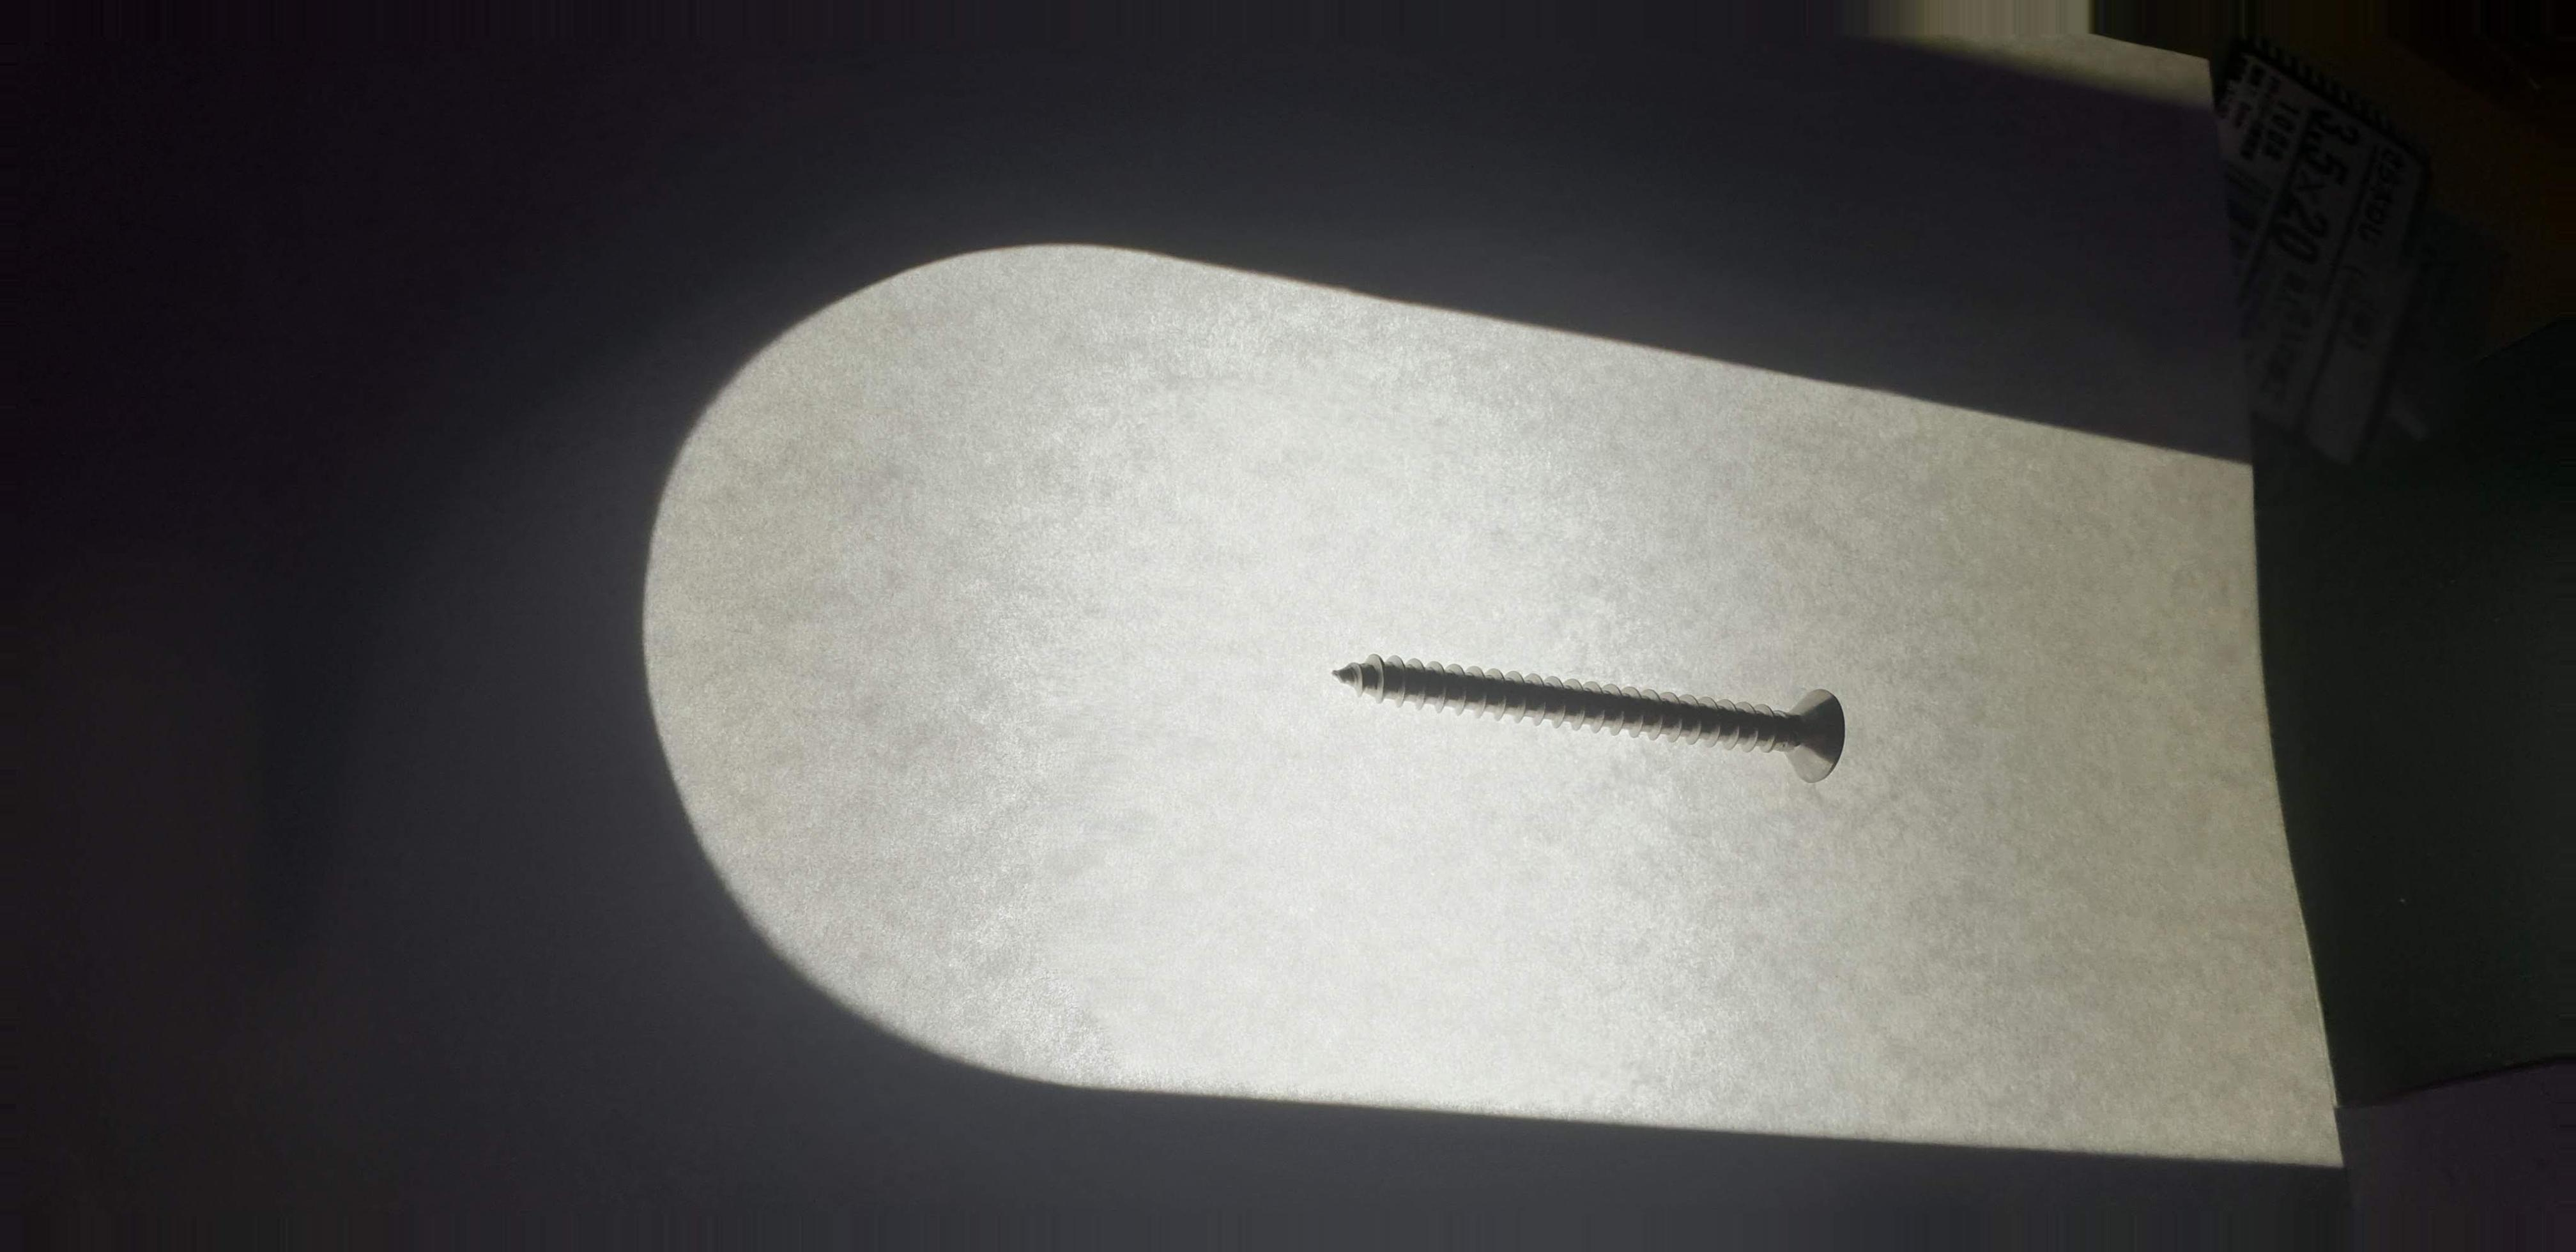S001: (1304, 626, 1883, 803)
